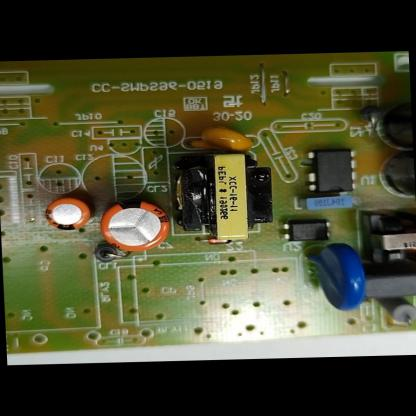Cap1: (96, 195, 178, 257)
Cap2: (41, 192, 100, 232)
Cap3: (374, 148, 416, 208)
Cap4: (380, 99, 413, 156)
MOSFET: (302, 145, 364, 196)
Mov: (303, 237, 372, 314)
Resistor: (372, 291, 416, 328)
Transformer: (163, 146, 277, 247), (353, 205, 416, 270)
